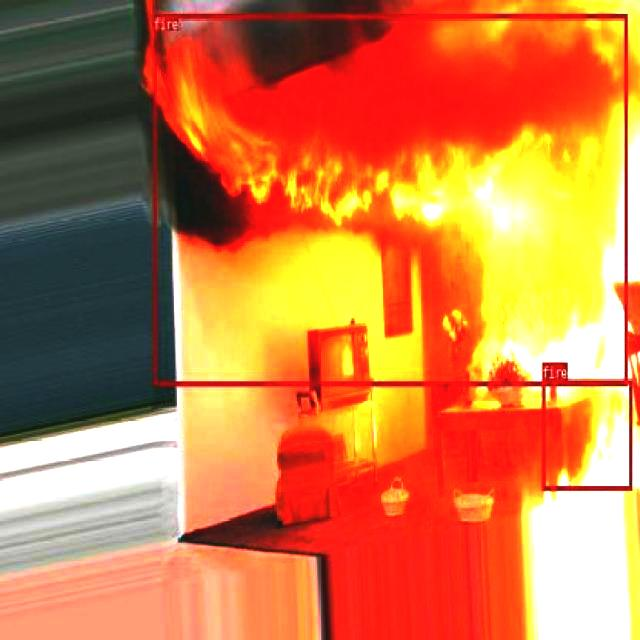fire: (153, 13, 627, 384), (542, 378, 632, 489)
